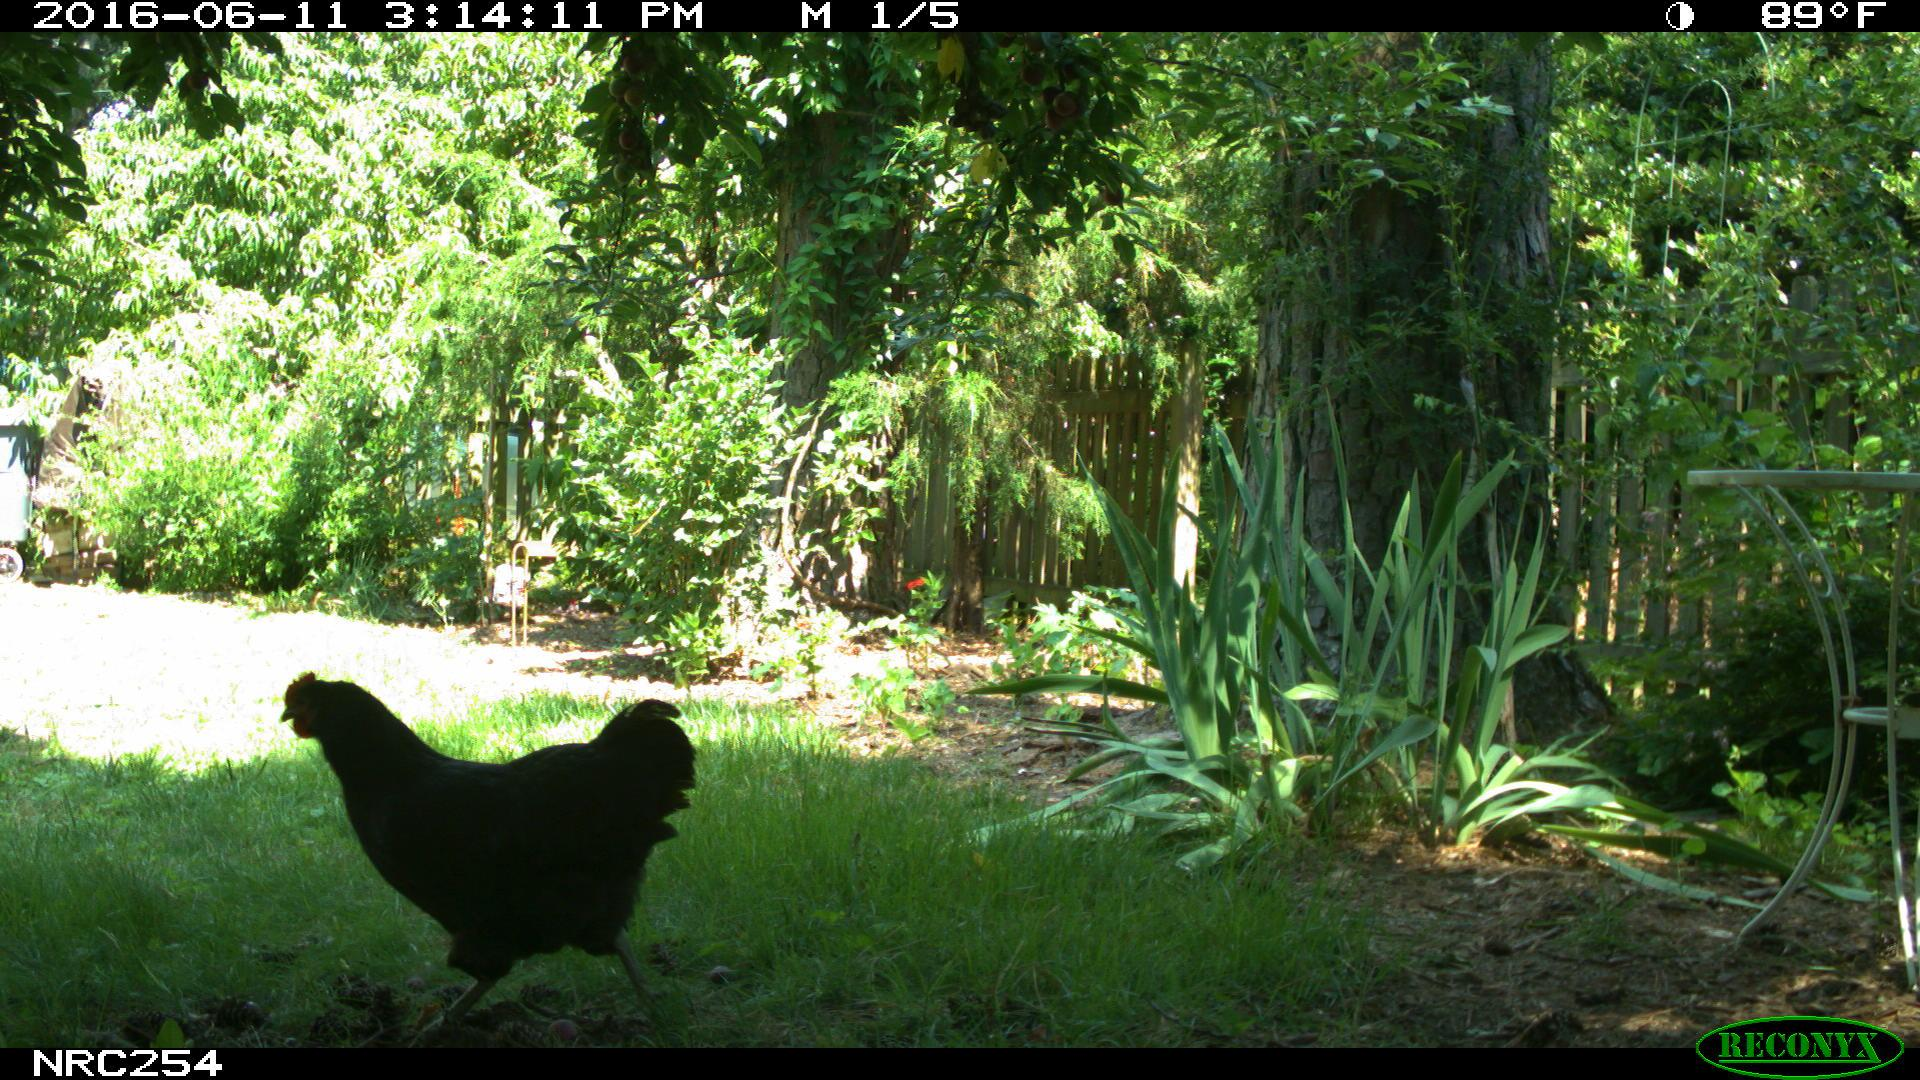Animal: (280, 676, 699, 1044)
